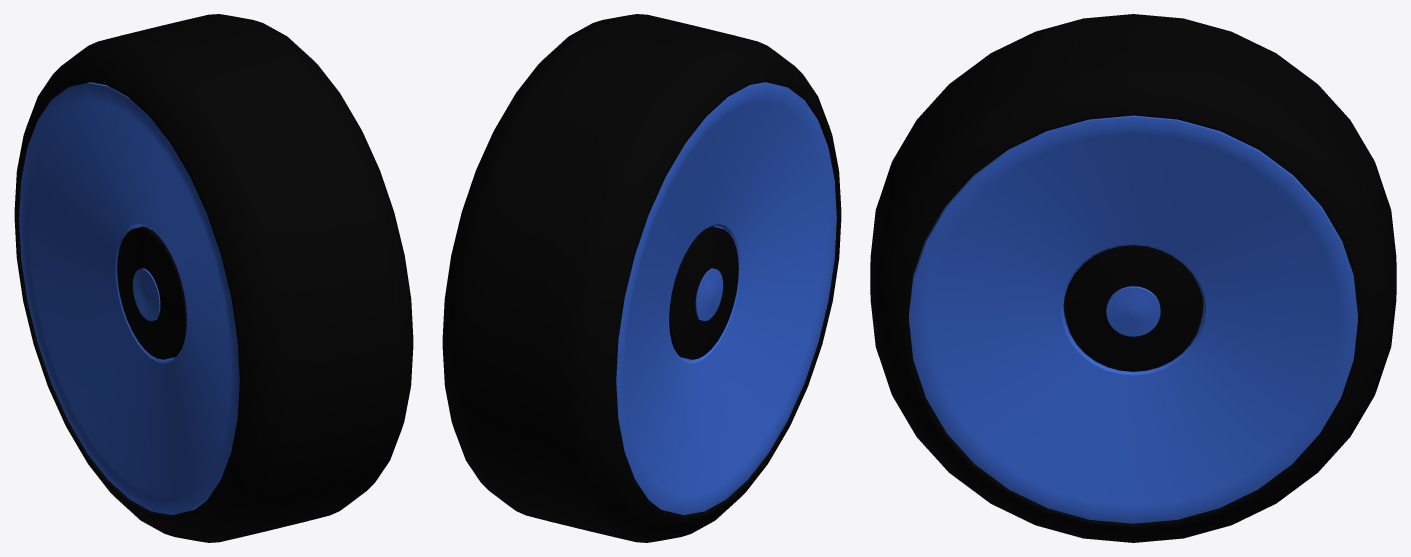
The model's file is Wheel.fbx.
3 views of the same model, side by side, from view 1: azimuth 30°, elevation 25°; view 2: azimuth 150°, elevation 25°; view 3: azimuth 270°, elevation 25° (orthographic).
Parts seen in each view (by area): view 1: Wheel_FL; view 2: Wheel_FL; view 3: Wheel_FL.
Part boxes in pixels (<box>): Wheel_FL: <box>14,14,413,542</box>; Wheel_FL: <box>442,14,841,542</box>; Wheel_FL: <box>870,14,1396,542</box>.
Size of the model in its own units: 27.22 by 71.14 by 71.14.
